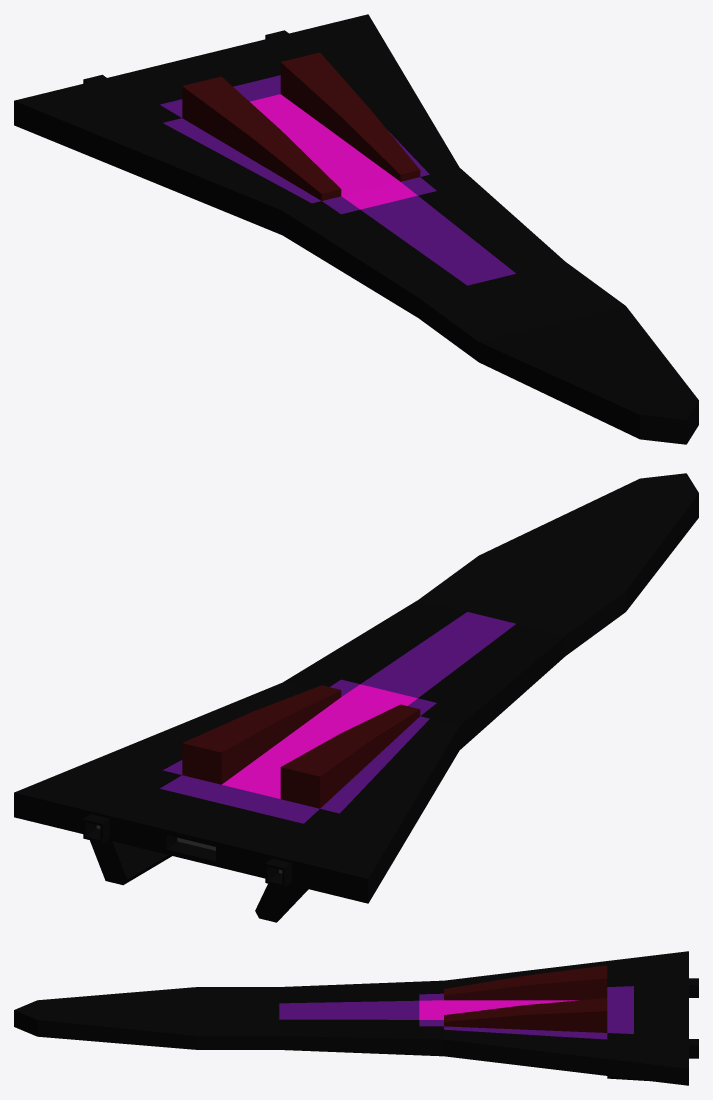
The picture shows the model from 3 angles, top to bottom: view 1: azimuth 30°, elevation 25°; view 2: azimuth 150°, elevation 25°; view 3: azimuth 270°, elevation 25°; orthographic projection. The views are drawn at different scales.
Visible parts, largest first — view 1: Hoverboard 4; view 2: Hoverboard 4; view 3: Hoverboard 4.
Part boxes in pixels (left/top/right/bottom): Hoverboard 4: left=14, top=14, right=698, bottom=444; Hoverboard 4: left=14, top=473, right=698, bottom=922; Hoverboard 4: left=14, top=951, right=698, bottom=1085.
Size of what is drawn, in the model's own units: 983 by 106 by 400.
